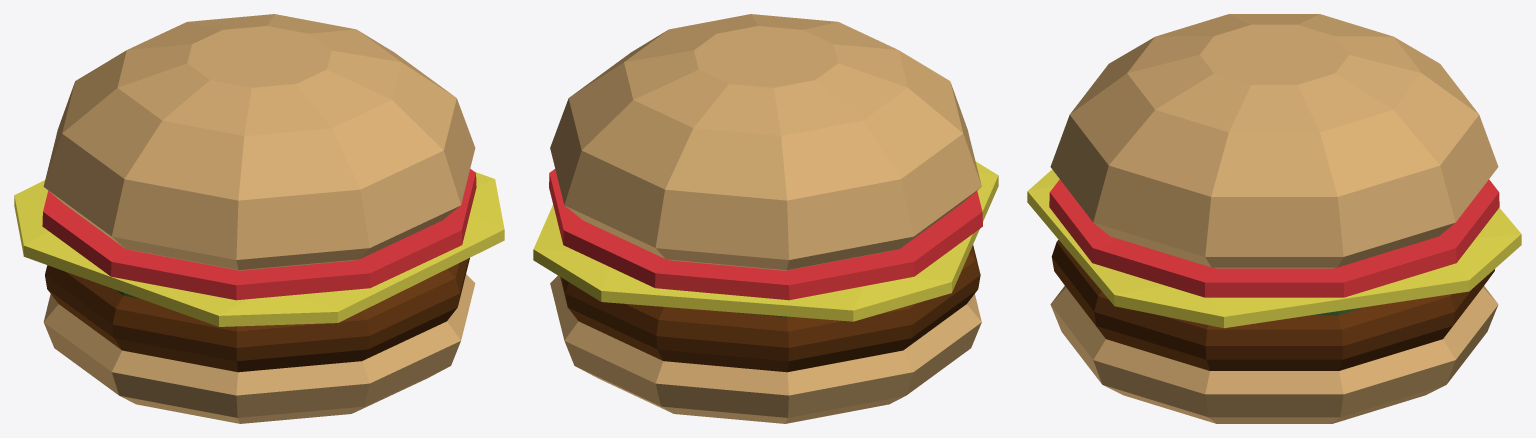
File: Burger.glb
3 renders of one model, left to right at view 1: azimuth 30°, elevation 25°; view 2: azimuth 150°, elevation 25°; view 3: azimuth 270°, elevation 25°, orthographic.
Visible parts, largest first — view 1: Burger; view 2: Burger; view 3: Burger.
Boxes of the visible parts, left/top/right/bottom form: Burger: left=14, top=14, right=504, bottom=423; Burger: left=533, top=14, right=998, bottom=423; Burger: left=1027, top=14, right=1521, bottom=423.
Size of the model in its own units: 0.6648 by 0.4584 by 0.6648.
Materials: 1 (1 with a texture image).
